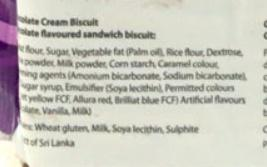ingredients: (15, 9, 253, 151)
